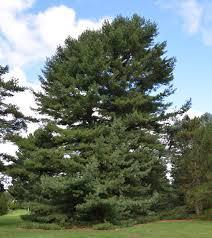tree: (19, 8, 190, 225)
